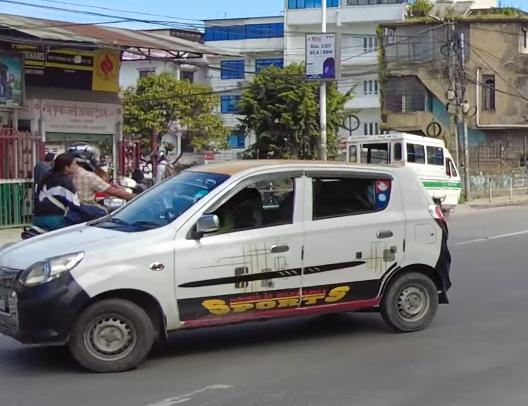taxi: (0, 129, 446, 380)
tempo: (349, 133, 466, 221)
